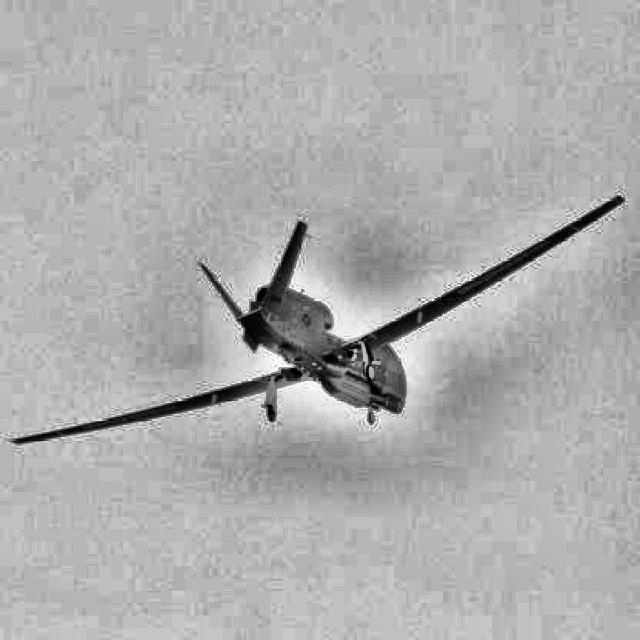RQ4: (6, 194, 626, 446)
